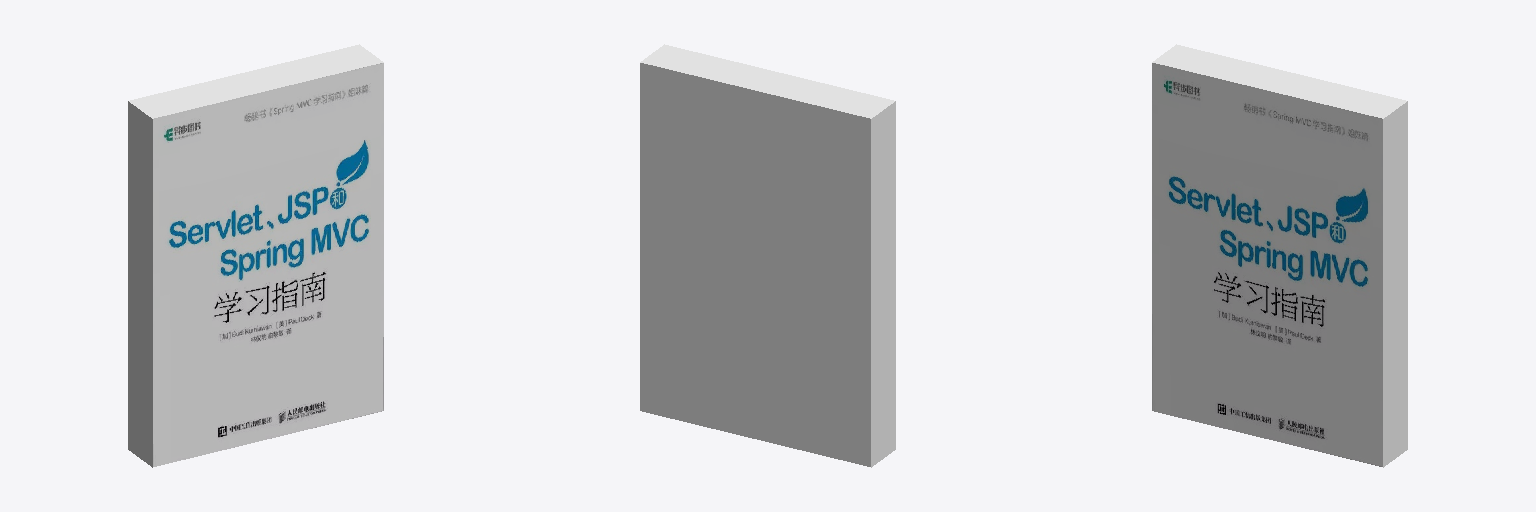
3 views of the same model, side by side, from view 1: azimuth 30°, elevation 25°; view 2: azimuth 150°, elevation 25°; view 3: azimuth 330°, elevation 25° (orthographic).
Parts seen in each view (by area): view 1: 立方体.008; view 2: 立方体.008; view 3: 立方体.008.
Part boxes in pixels (left/top/right/bottom): 立方体.008: left=128, top=44, right=383, bottom=467; 立方体.008: left=640, top=44, right=895, bottom=467; 立方体.008: left=1152, top=44, right=1407, bottom=467.
Bounding box in the file's own units: 0.4312 × 0.6205 × 0.0792.
2 materials, 1 textured.